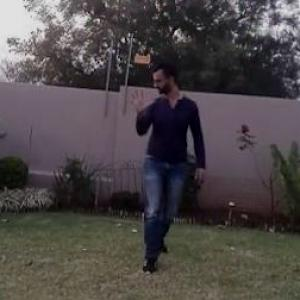follow_hand: (125, 84, 149, 117)
